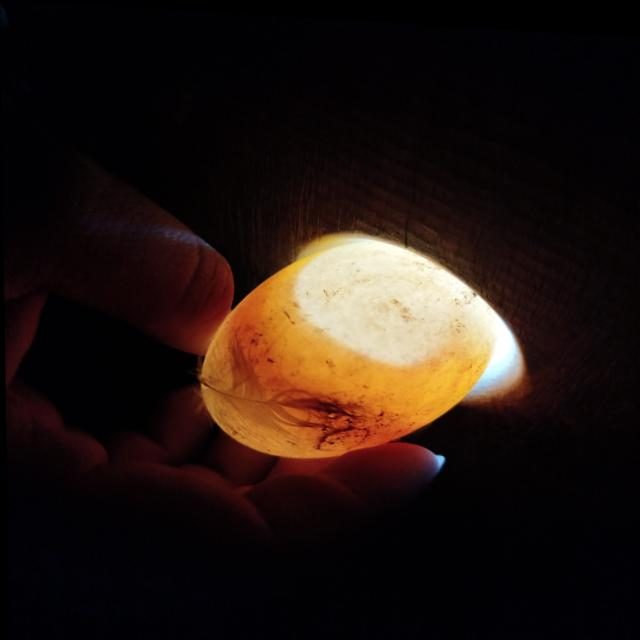Camara de Ar: (293, 237, 461, 355)
